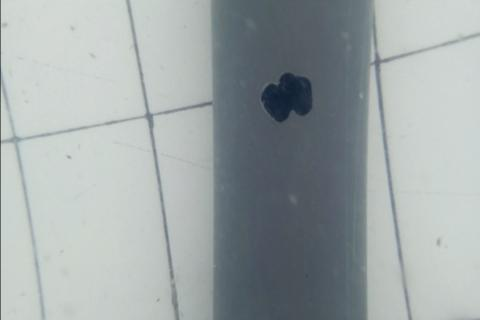kebocoran: (260, 70, 313, 122)
